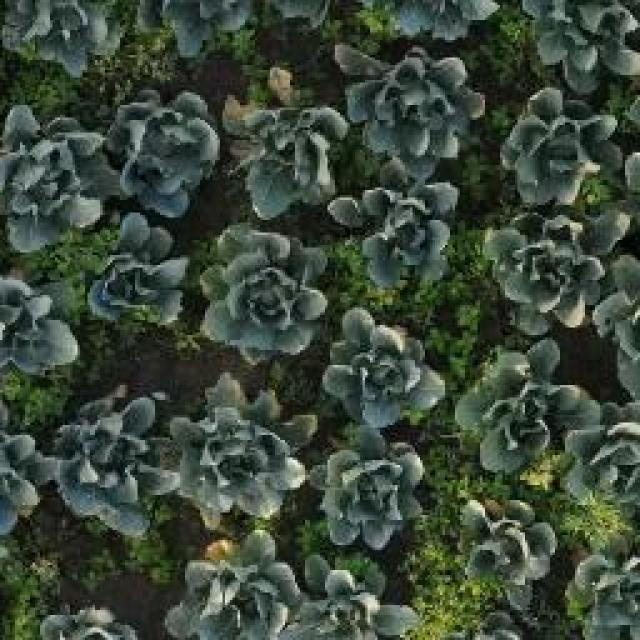cabbage: (47, 396, 174, 538), (112, 86, 225, 210), (232, 82, 344, 204), (187, 396, 297, 516), (318, 310, 428, 428), (212, 233, 327, 342), (85, 222, 196, 329), (362, 62, 472, 168), (0, 111, 92, 232), (499, 210, 605, 312), (183, 538, 290, 638), (508, 96, 608, 197), (319, 444, 420, 544), (472, 368, 572, 468), (350, 188, 450, 284), (458, 503, 549, 607)
